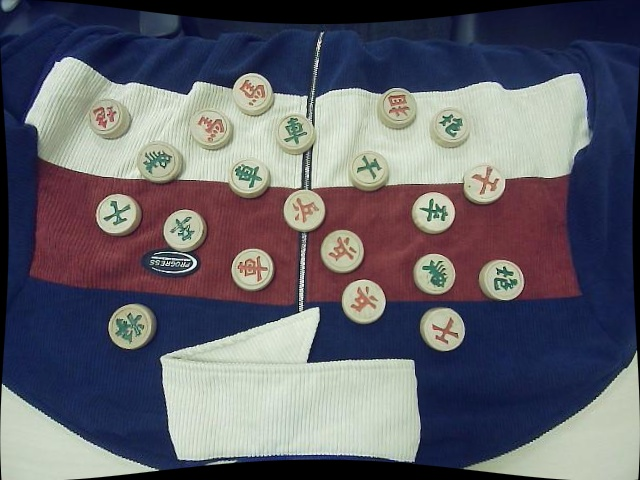Black-Cannon: (479, 258, 525, 302), (431, 106, 469, 149)
Black-Chariot: (229, 158, 272, 199), (277, 116, 314, 154)
Black-Elephant: (138, 141, 181, 185), (414, 252, 456, 296)
Black-General: (107, 304, 156, 352)
Black-Guard: (94, 193, 141, 236), (349, 149, 389, 191)
Black-Soldier: (411, 189, 457, 232), (165, 209, 206, 251)
Red-Cannon: (89, 99, 133, 139)
Red-Chariot: (231, 248, 274, 290)
Red-Elephant: (377, 86, 418, 131)
Red-Guard: (421, 309, 466, 354), (464, 164, 504, 205)
Red-Horse: (188, 108, 235, 151), (232, 73, 276, 116)
Red-Soldier: (319, 227, 365, 274), (341, 279, 386, 325), (283, 189, 326, 232)
